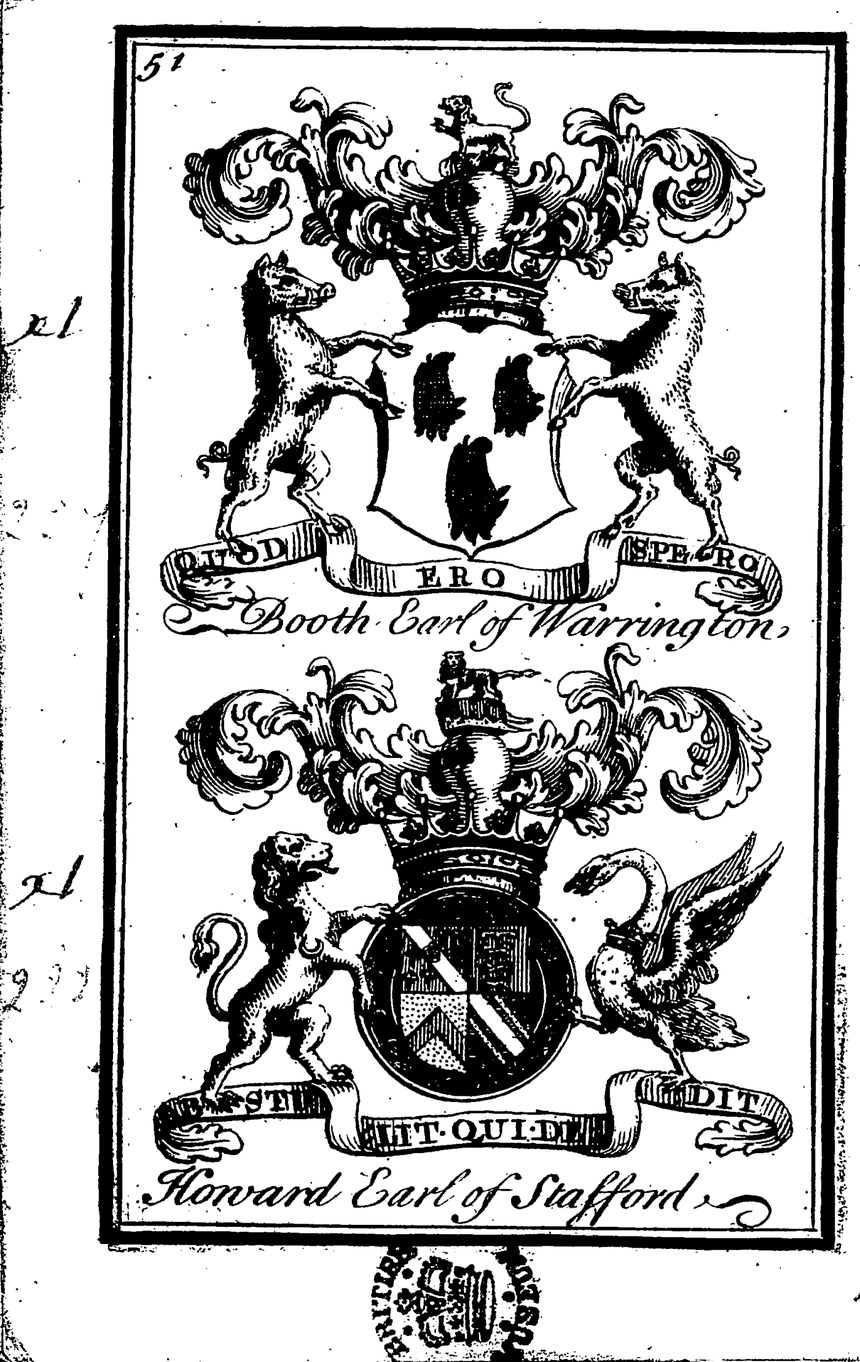coat_of_arms: (146, 50, 788, 658), (142, 653, 788, 1227)
